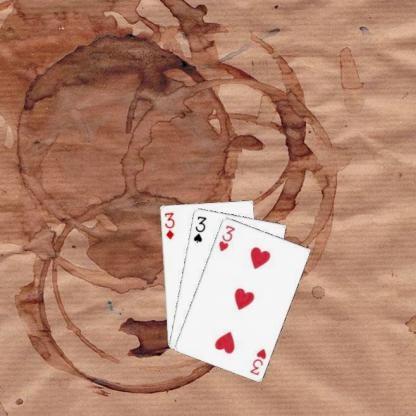3D: (161, 209, 176, 241)
3H: (247, 345, 268, 376), (216, 222, 236, 252)
3S: (191, 213, 208, 244)
